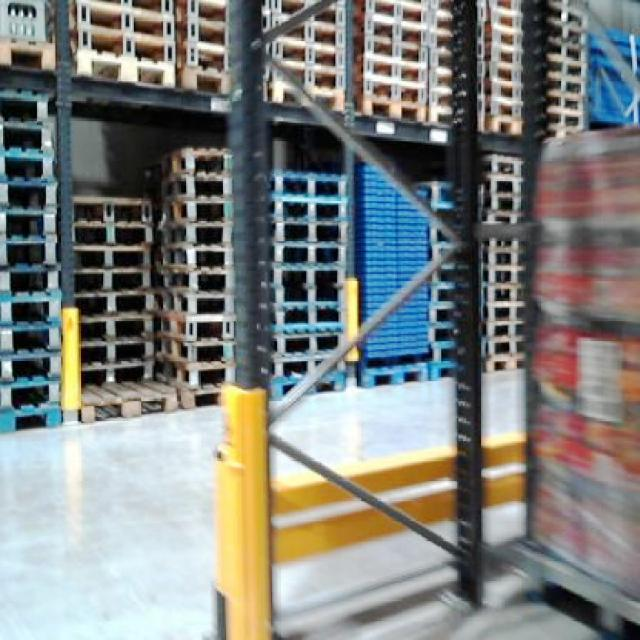ground: (0, 375, 638, 638)
pallet: (66, 0, 597, 148), (522, 109, 638, 638), (154, 142, 351, 411), (268, 431, 528, 566), (69, 192, 174, 422), (154, 143, 231, 408), (465, 144, 531, 376)
